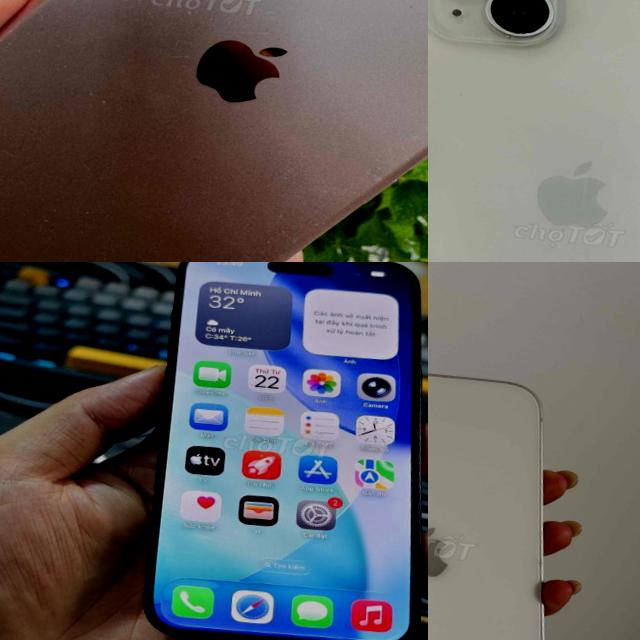gen_14: (428, 347, 591, 640)
gen_15: (92, 262, 428, 640), (428, 0, 640, 262)
gen_7_8: (0, 0, 428, 262)
scratch: (108, 200, 303, 262), (428, 0, 559, 47), (0, 27, 73, 99), (11, 200, 94, 234), (0, 131, 20, 176), (82, 84, 111, 108)
